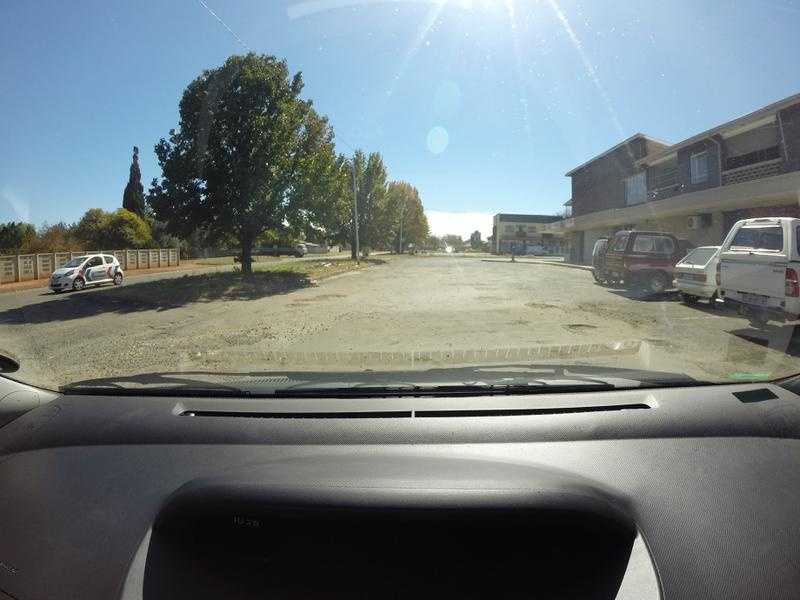pothole: (564, 320, 604, 333), (526, 299, 565, 312)
